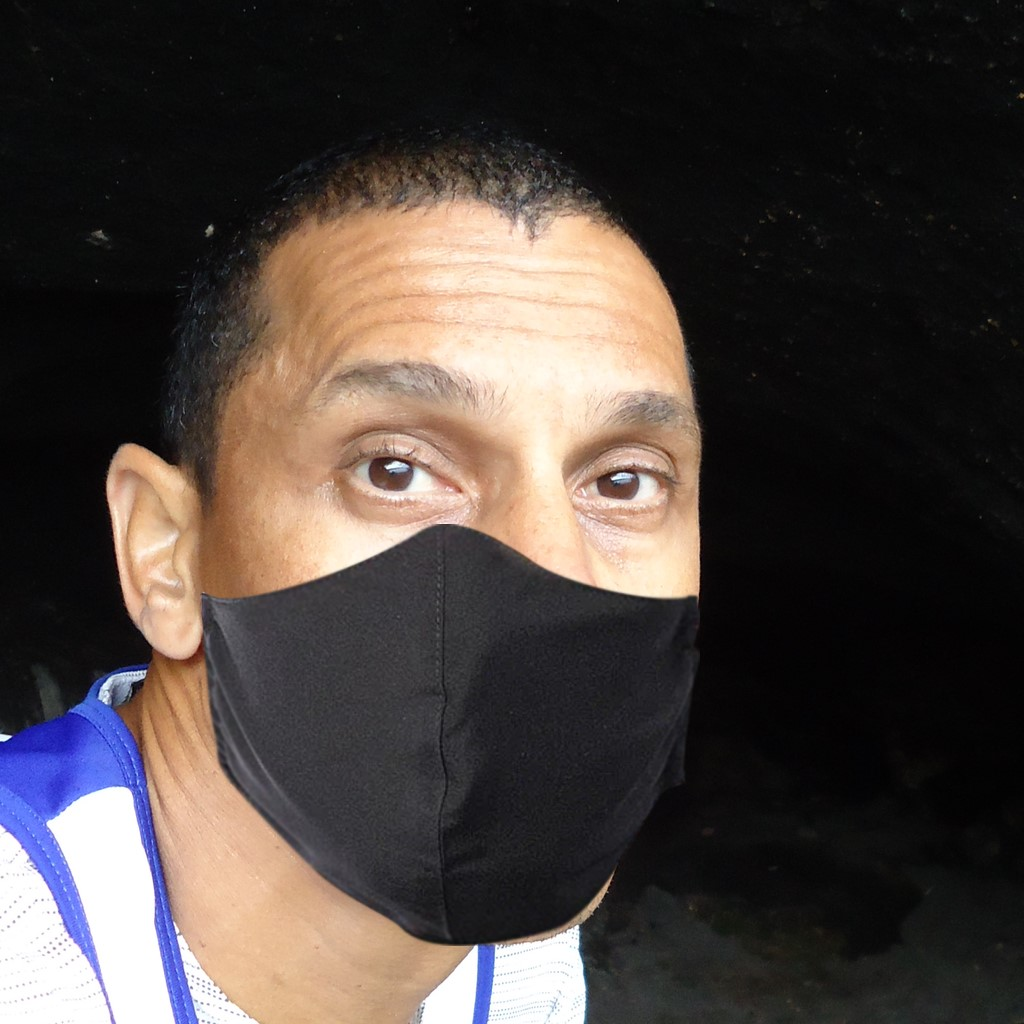con_mascara: (120, 125, 715, 947)
